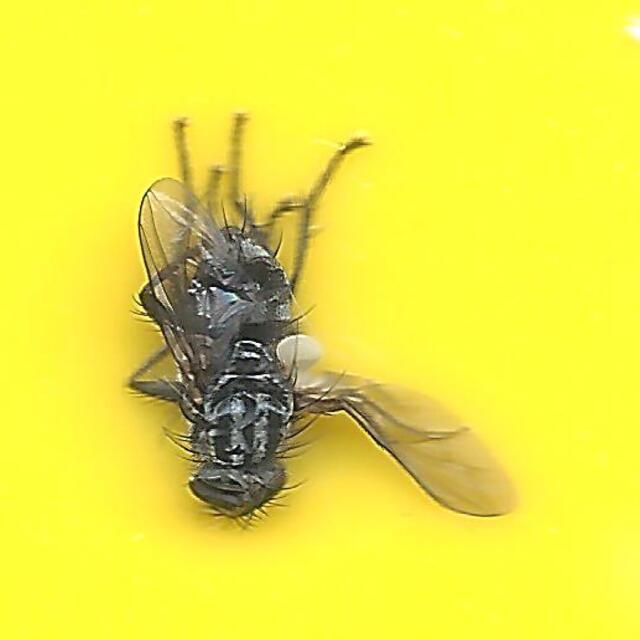Brachycera: (124, 112, 516, 528)
